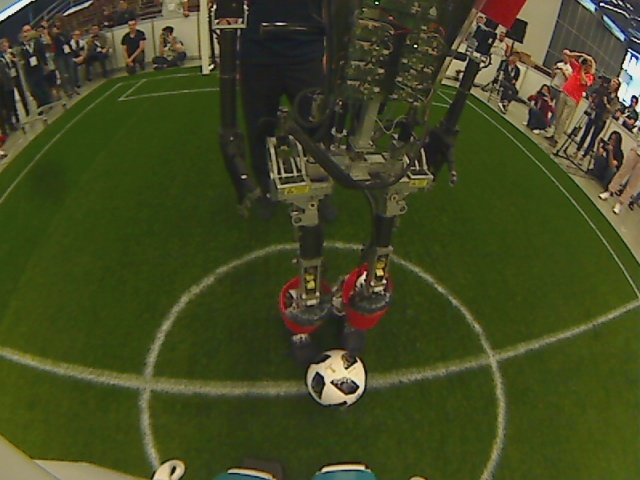ball: (306, 357, 366, 406)
goalpost: (195, 58, 216, 82)
robot: (282, 284, 380, 357)
